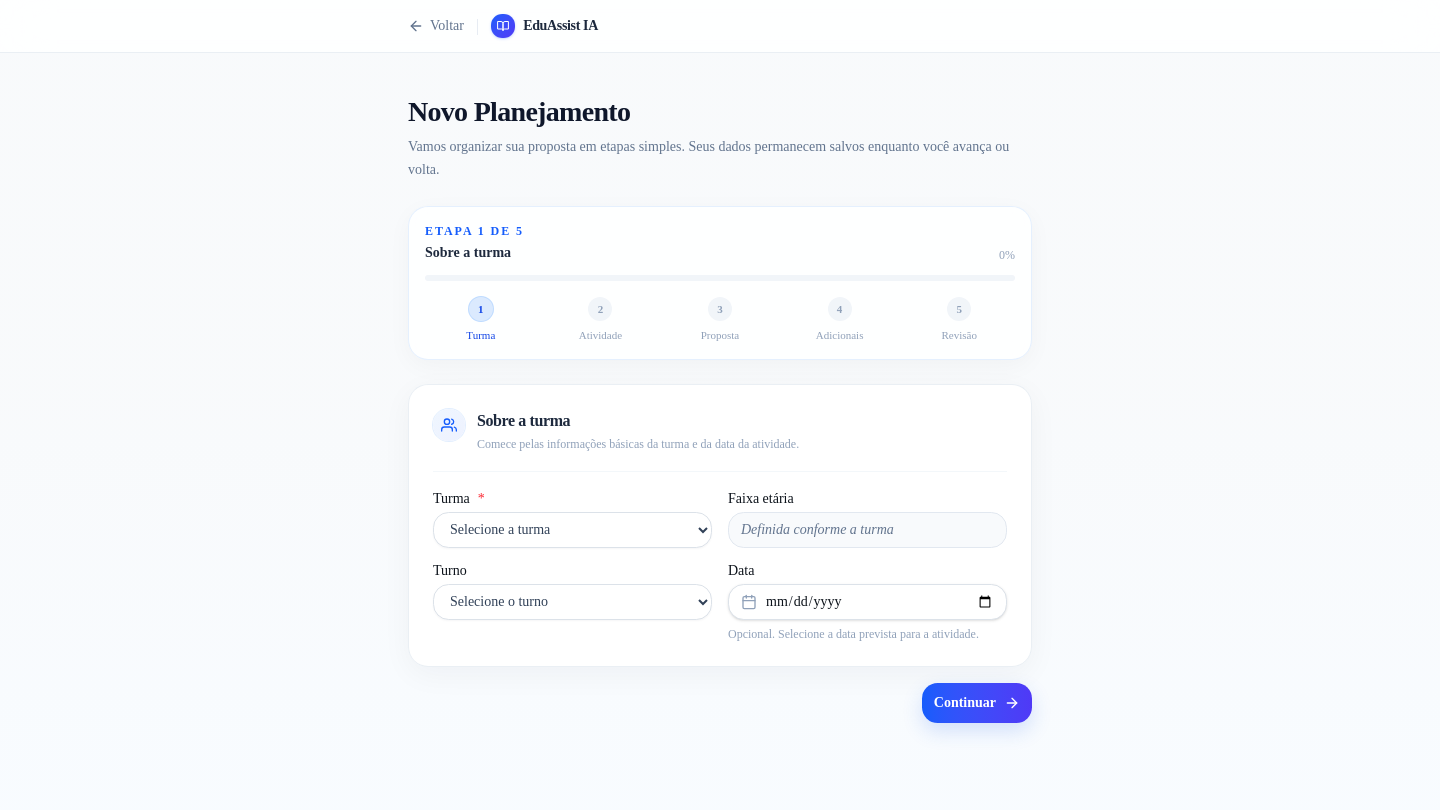
Test case: Interface de planejamento › deve avançar para a segunda etapa após selecionar uma turma
Select "Infantil II" in the dropdown labelled "Turma *" at [572, 530], box [433, 512, 712, 548]
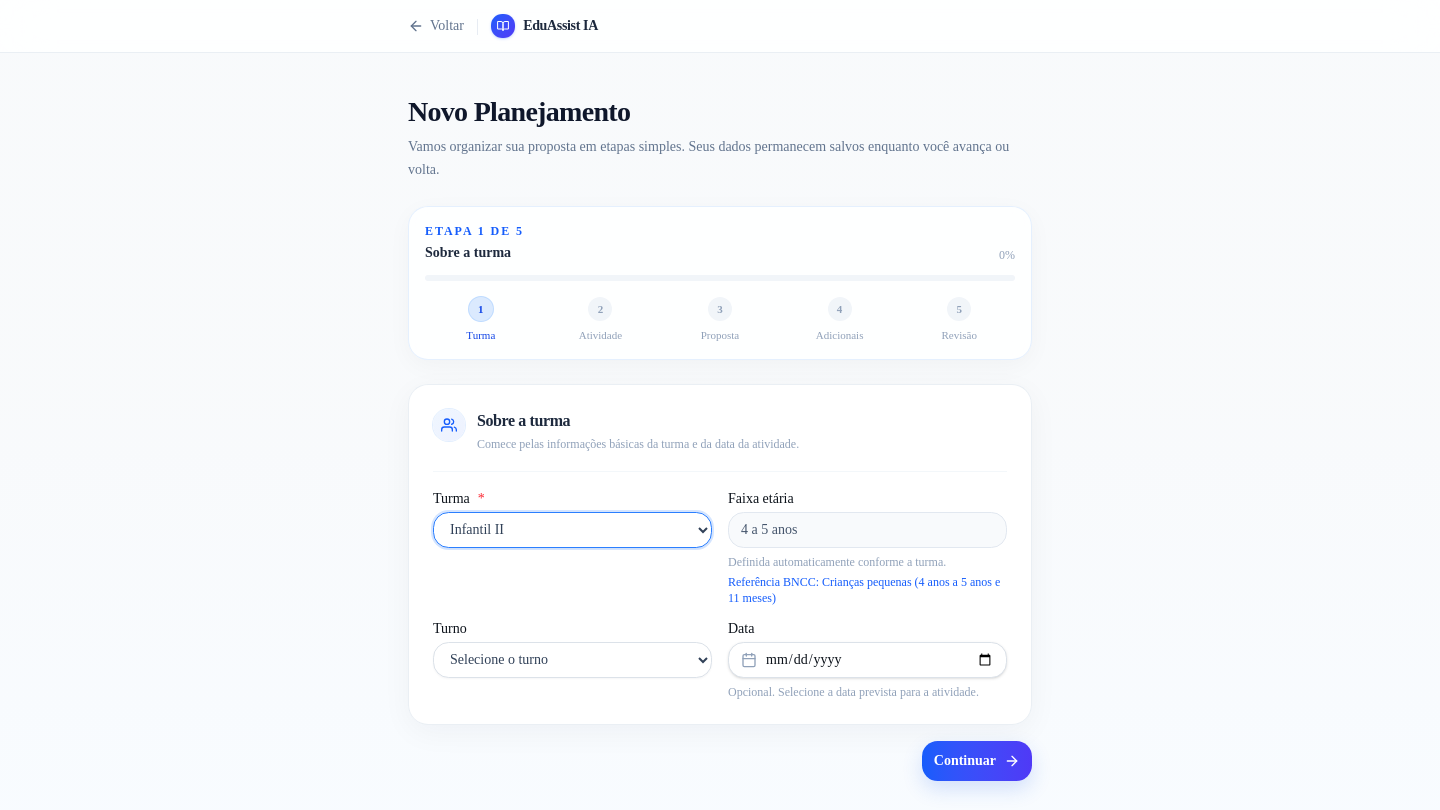
Click the button "Continuar".
click(977, 761)  # box [922, 741, 1032, 781]
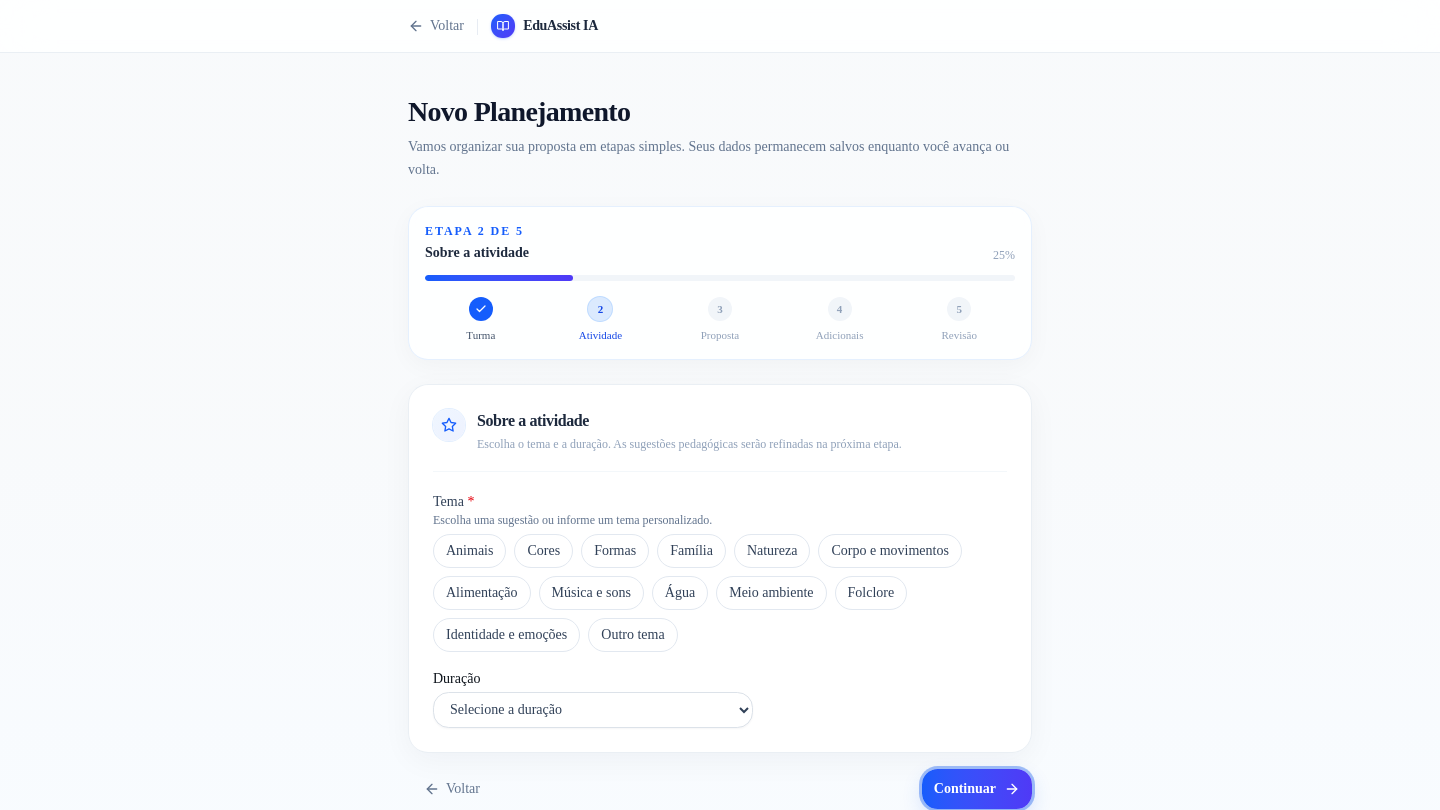
Check: the heading "Sobre a atividade" is shown, box [477, 412, 589, 429]
Check: the text "Sobre a turma" is gone
